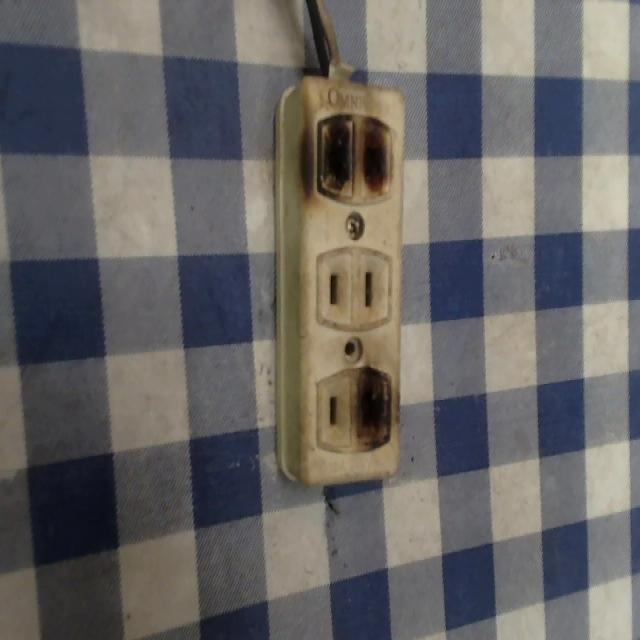-: (293, 96, 401, 211), (347, 356, 404, 460)
